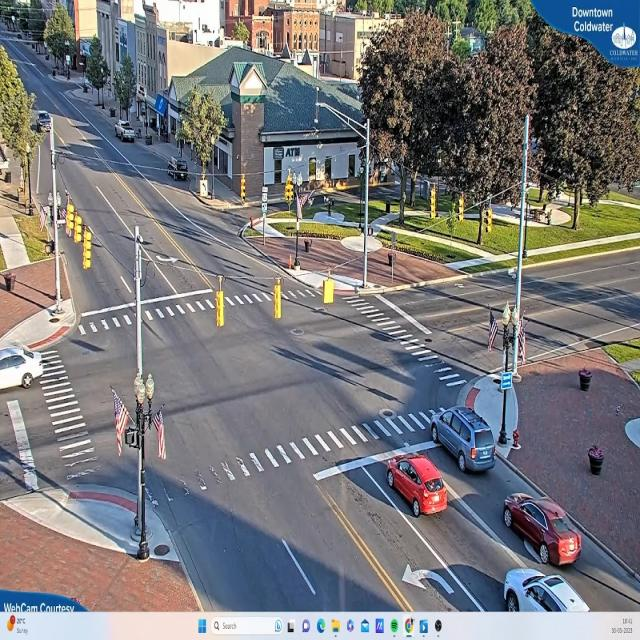car: (501, 499, 583, 567), (381, 456, 449, 523), (428, 410, 498, 471), (503, 572, 590, 612)
